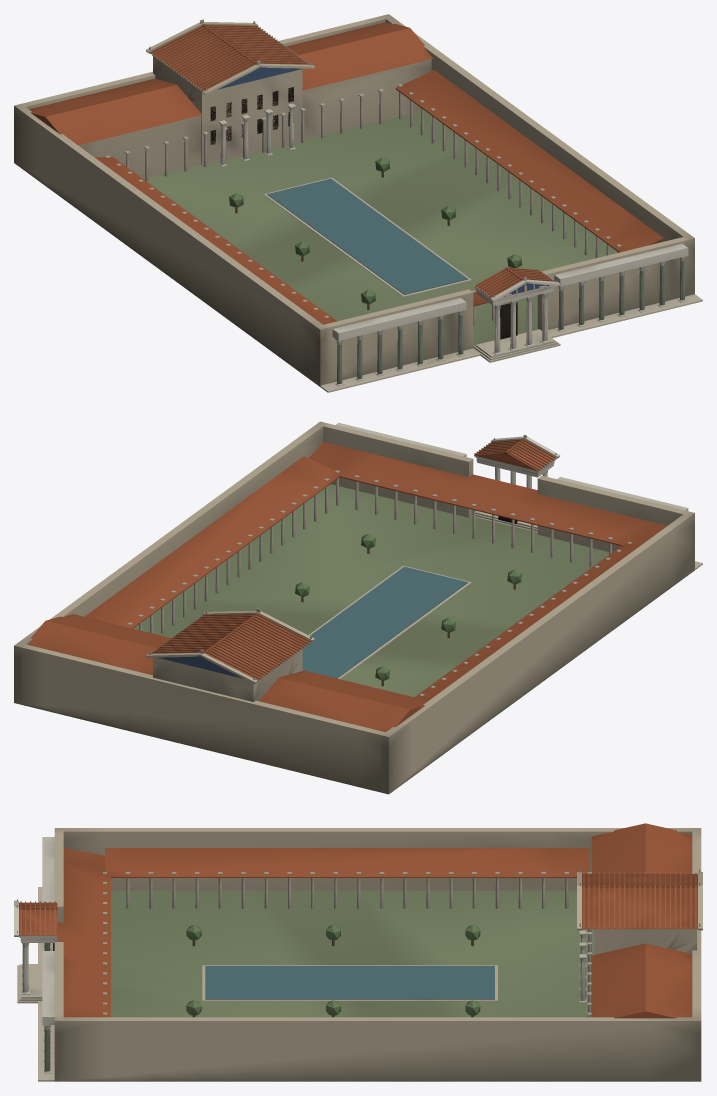
Rendered from hadrians-library.glb.
3 views of the same model, one above another, from view 1: azimuth 30°, elevation 25°; view 2: azimuth 150°, elevation 25°; view 3: azimuth 270°, elevation 25° (orthographic). The views are drawn at different scales.
Parts seen in each view (by area): view 1: p0_court, p1_facade, p2_entablature; view 2: p0_court, p2_entablature, p1_facade; view 3: p0_court, p2_entablature, p1_facade.
Boxes of the visible parts, bbox=[...] form: p0_court: bbox=[14, 14, 702, 392]; p1_facade: bbox=[78, 56, 687, 386]; p2_entablature: bbox=[29, 19, 688, 340]; p0_court: bbox=[14, 421, 702, 794]; p2_entablature: bbox=[28, 422, 688, 731]; p1_facade: bbox=[127, 434, 632, 701]; p0_court: bbox=[38, 828, 701, 1081]; p2_entablature: bbox=[42, 823, 702, 1024]; p1_facade: bbox=[14, 872, 696, 1073].
Size of the model in its own units: 82 by 20.46 by 124.
